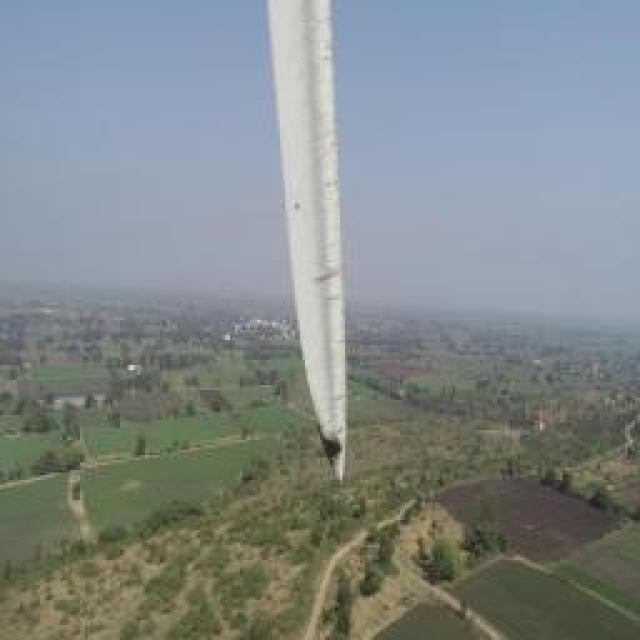Dirt: (267, 0, 349, 479)
Oil LEAKAGE: (319, 434, 344, 471)
Pin Hole: (291, 200, 306, 214)
